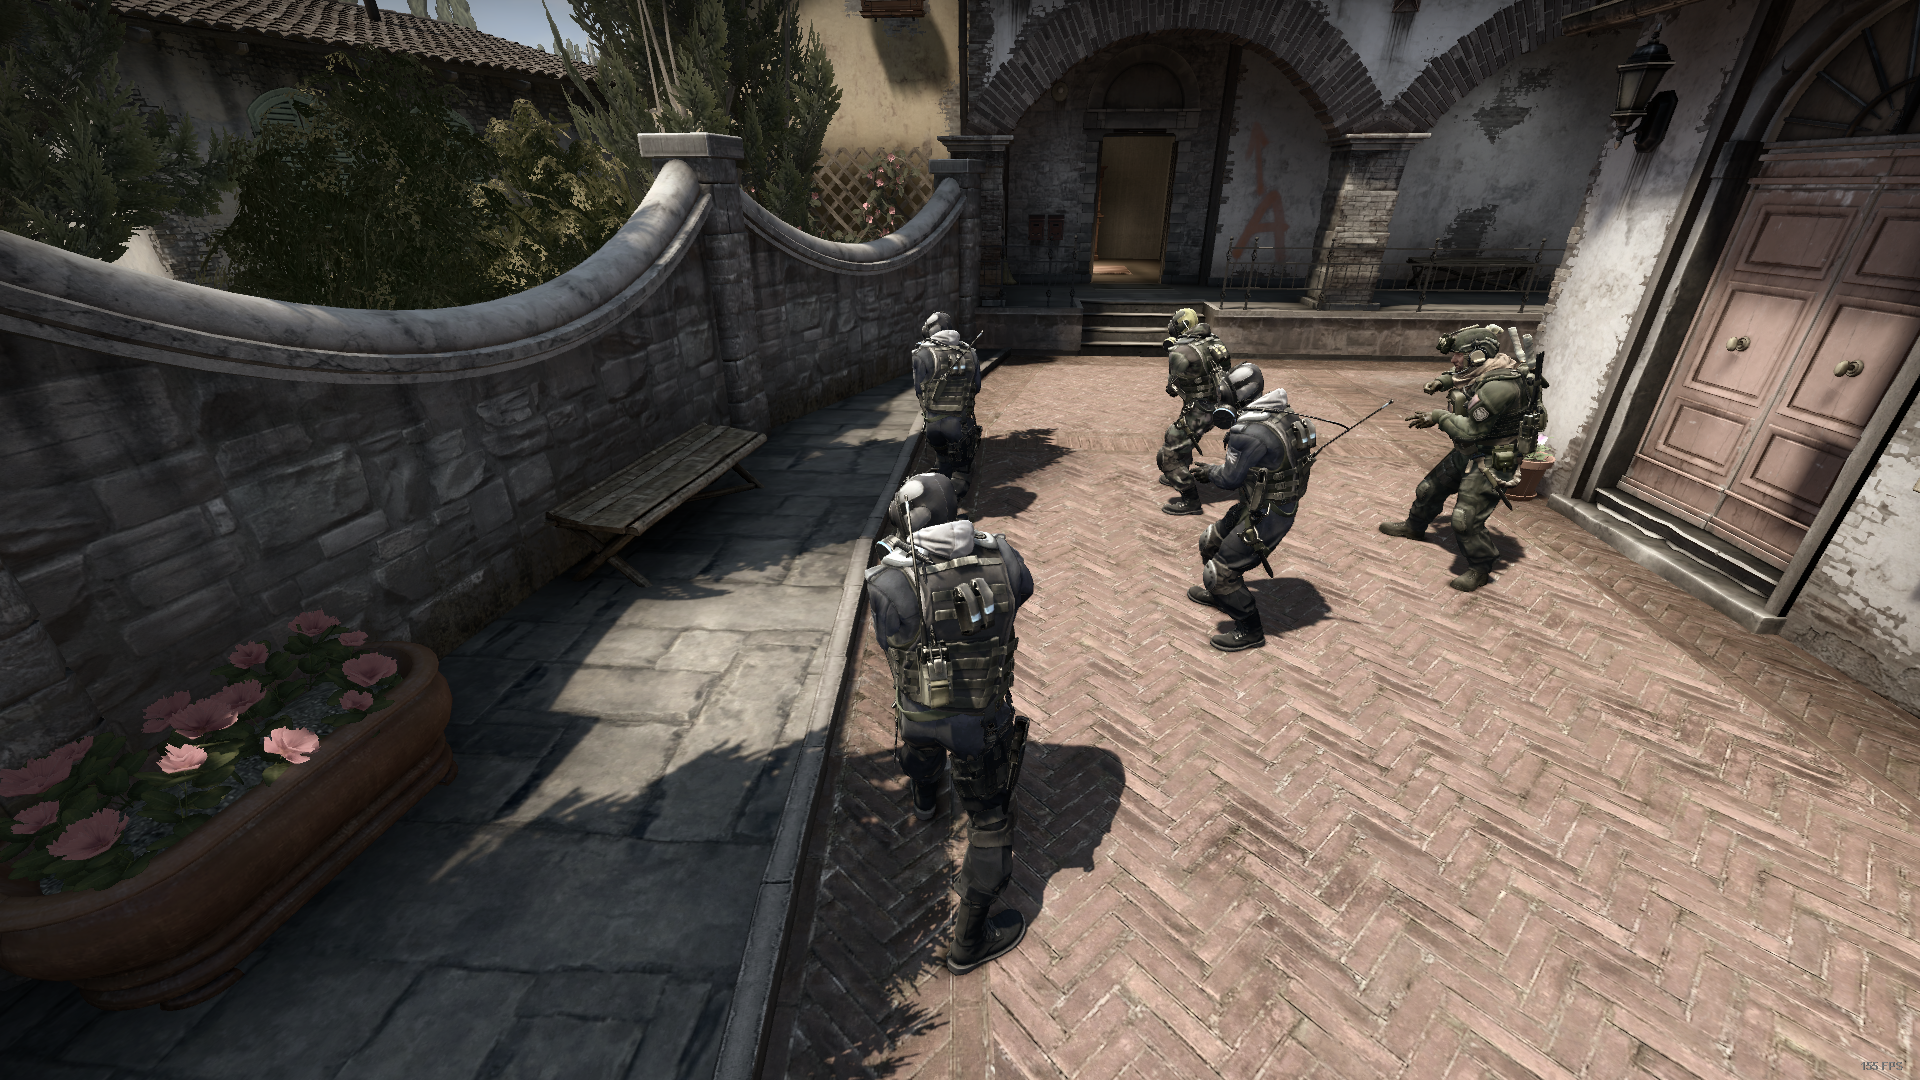ct: (865, 471, 1039, 976), (1188, 363, 1313, 658), (907, 313, 984, 471)
